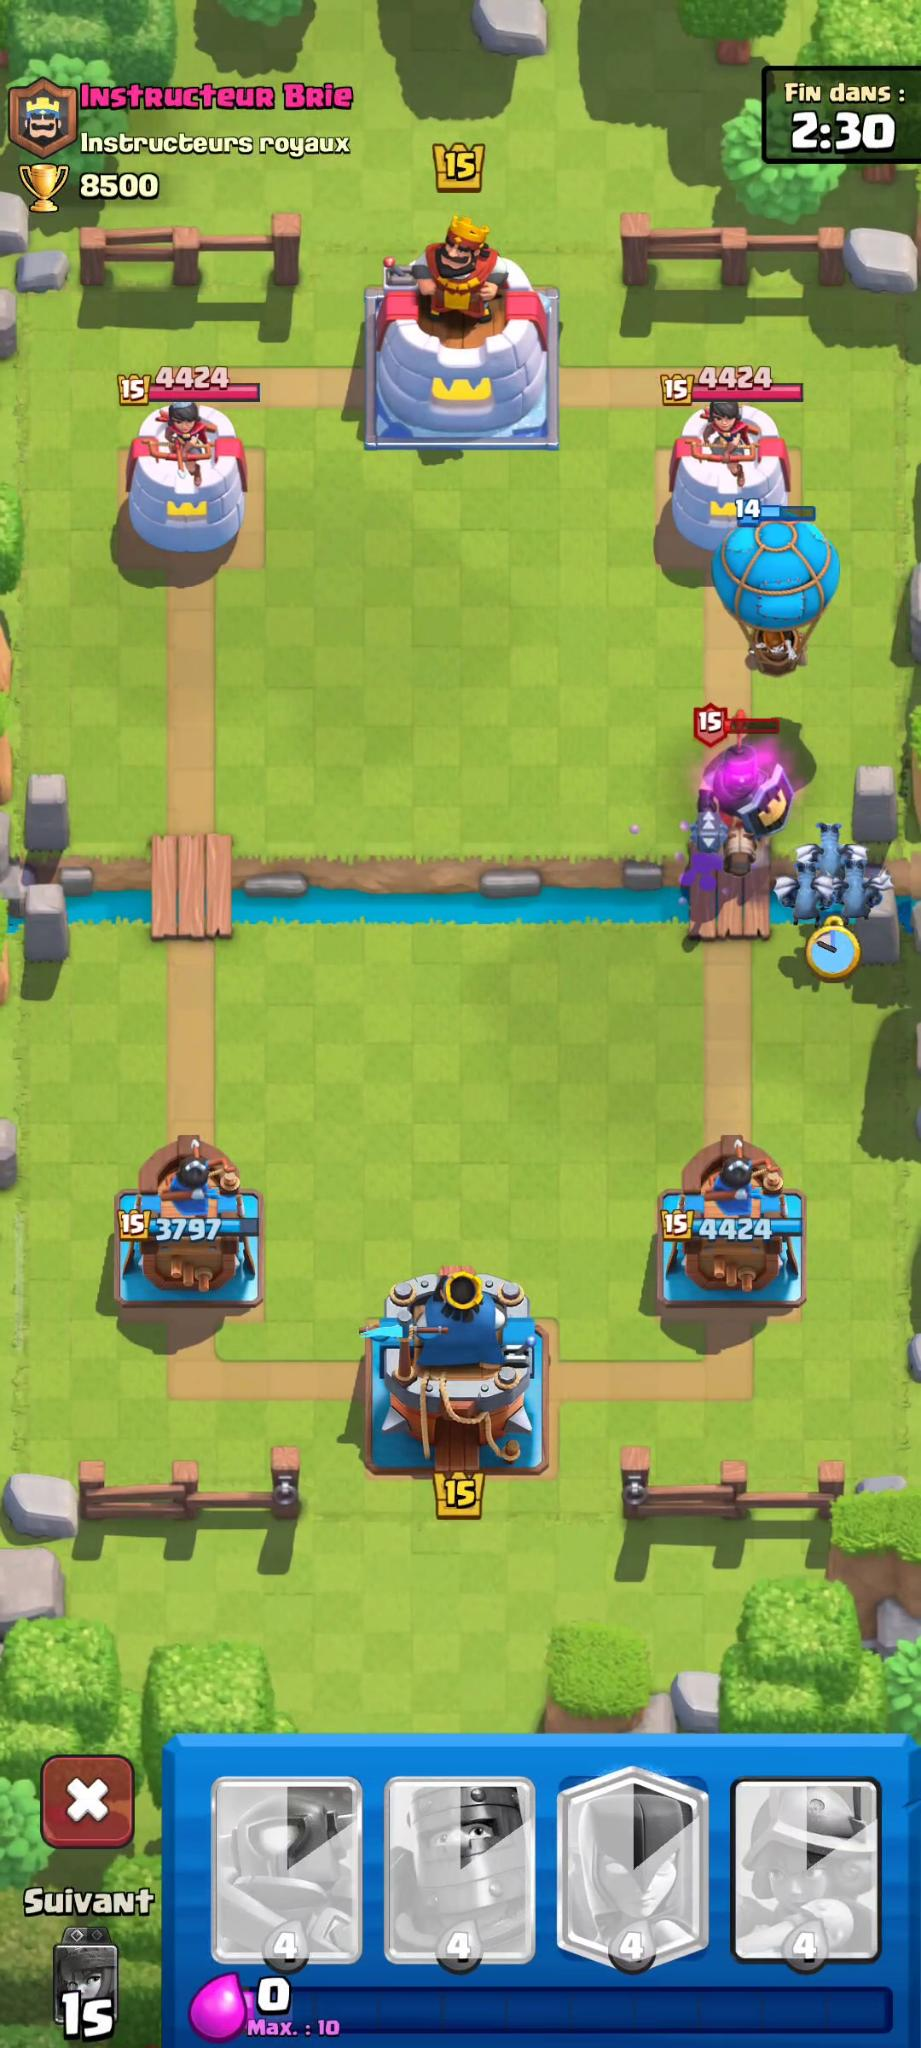gargouille: (819, 859, 895, 931), (797, 815, 867, 882), (775, 862, 841, 927)
